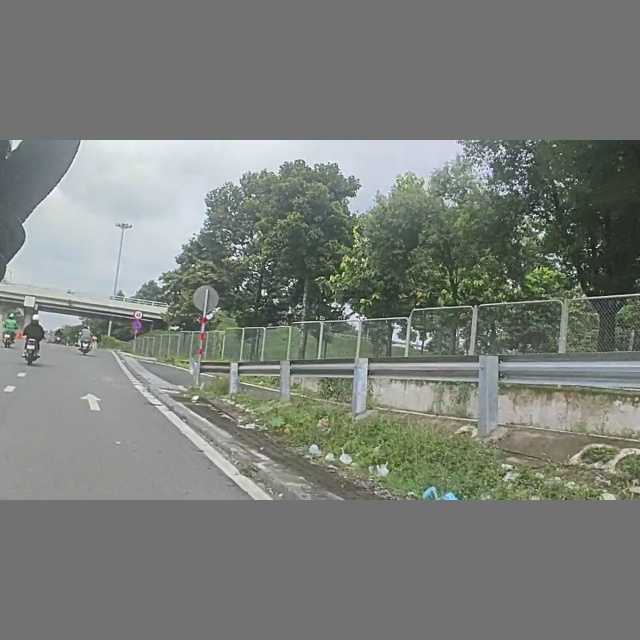P.127*40: (134, 309, 143, 319)
P.130: (131, 320, 142, 330)
